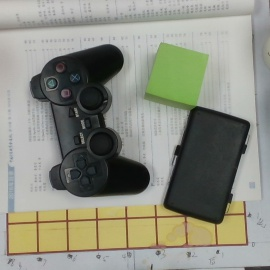remote: (29, 44, 150, 196)
